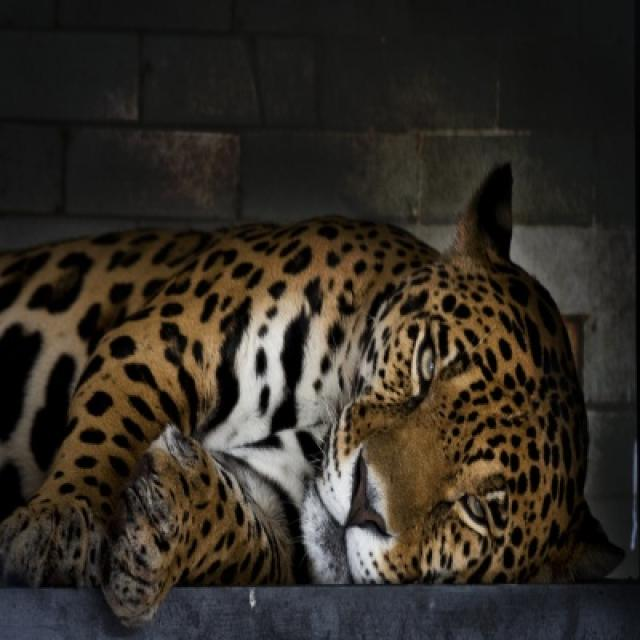Jaguar: (0, 166, 619, 630)
